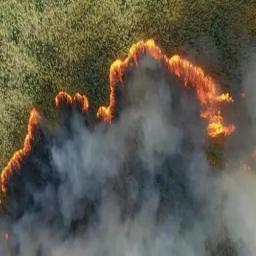Heavy smoke: (2, 57, 256, 256)
Medium fire: (96, 39, 238, 137), (0, 108, 47, 184), (55, 90, 91, 112)
